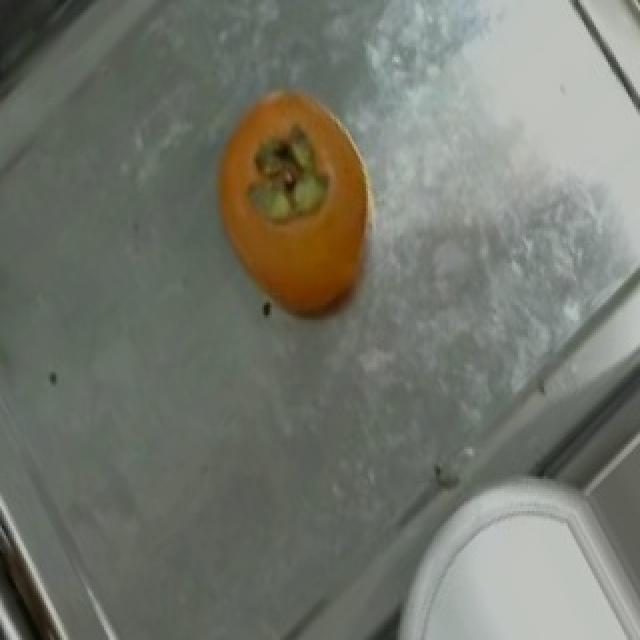Fruit: (192, 77, 398, 335), (394, 486, 640, 640), (586, 0, 640, 146)
